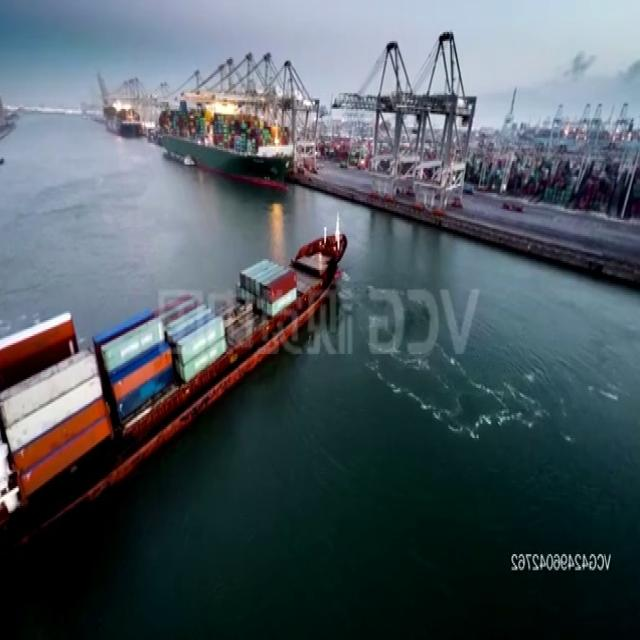cargoship: (0, 208, 350, 536)
